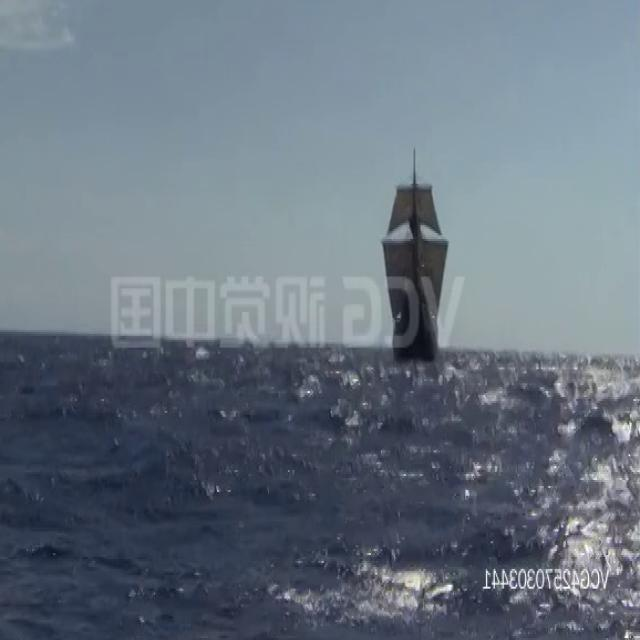sailboat: (379, 145, 450, 362)
